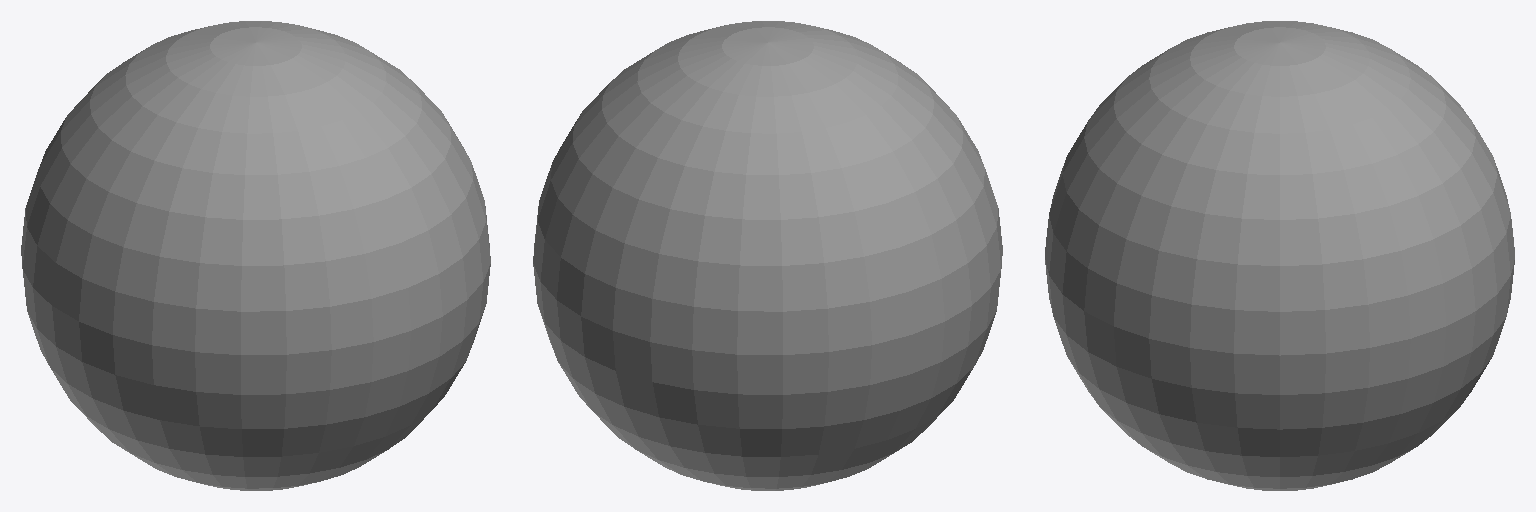
File: venus.obj
The picture shows the model from 3 angles: view 1: azimuth 30°, elevation 25°; view 2: azimuth 150°, elevation 25°; view 3: azimuth 270°, elevation 25°; orthographic projection.
Parts seen in each view (by area): view 1: Venus_Mesh.003; view 2: Venus_Mesh.003; view 3: Venus_Mesh.003.
Boxes of the visible parts, x1,y1,x2,y2 form: Venus_Mesh.003: [21, 21, 490, 490]; Venus_Mesh.003: [533, 21, 1002, 490]; Venus_Mesh.003: [1045, 21, 1514, 490].
Bounding box in the file's own units: 5.42 × 5.42 × 5.42.